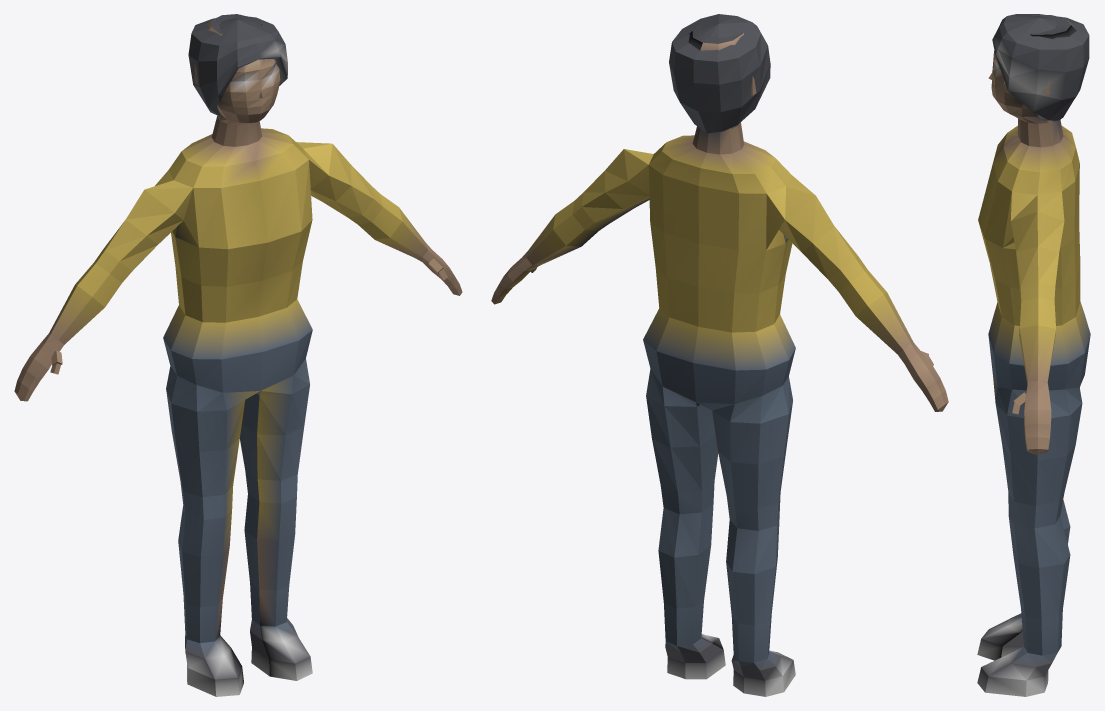
The model's file is char__pessoa__multidao_12.glb.
3 views of the same model, side by side, from view 1: azimuth 30°, elevation 25°; view 2: azimuth 150°, elevation 25°; view 3: azimuth 270°, elevation 25° (orthographic). The views are drawn at different scales.
Parts seen in each view (by area): view 1: char__pessoa__multidao_12; view 2: char__pessoa__multidao_12; view 3: char__pessoa__multidao_12.
Boxes of the visible parts, x1,y1,x2,y2 form: char__pessoa__multidao_12: (14,14,462,696); char__pessoa__multidao_12: (491,14,948,696); char__pessoa__multidao_12: (977,14,1090,696).
Bounding box in the file's own units: 1.11 × 1.56 × 0.2451.
